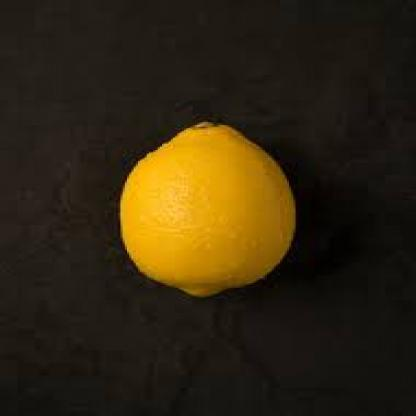lemon: (119, 120, 297, 298)
